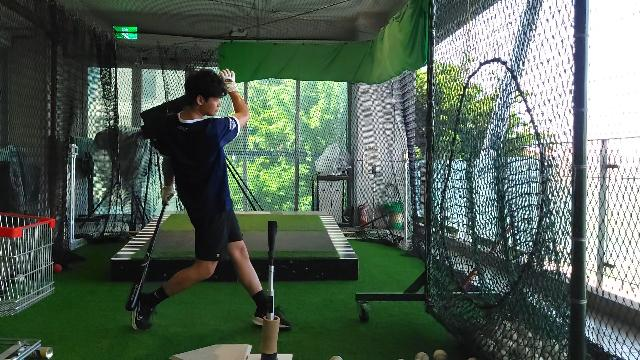bat: (124, 192, 174, 312)
